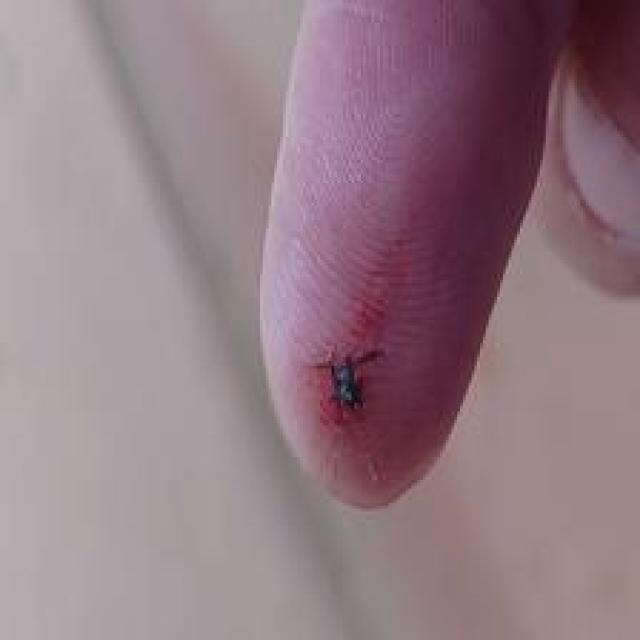Aedes albopictus: (314, 346, 386, 417)
